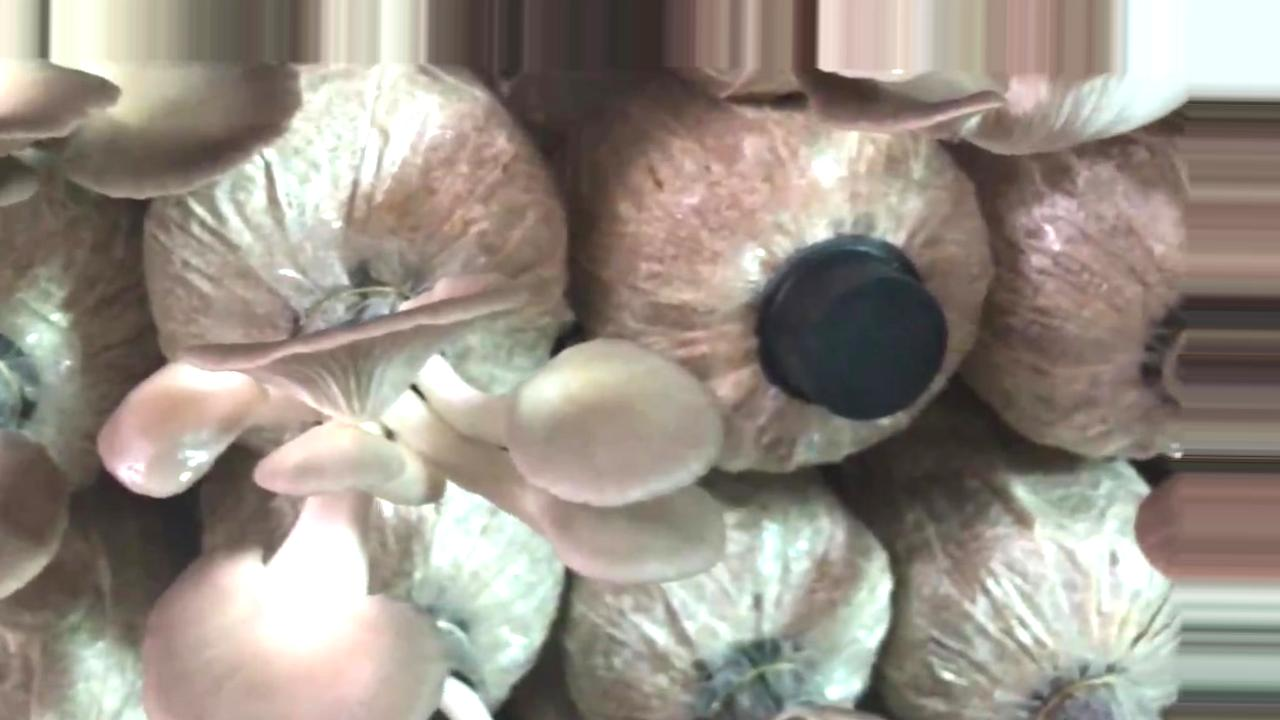nam: (92, 271, 730, 720)
